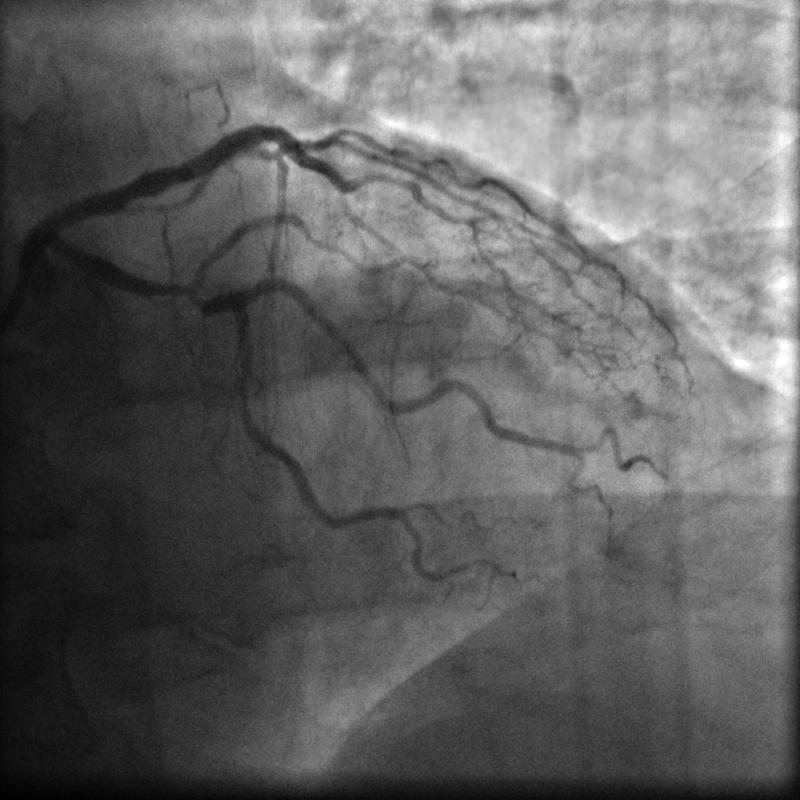Stenosis: (153, 272, 199, 302)
